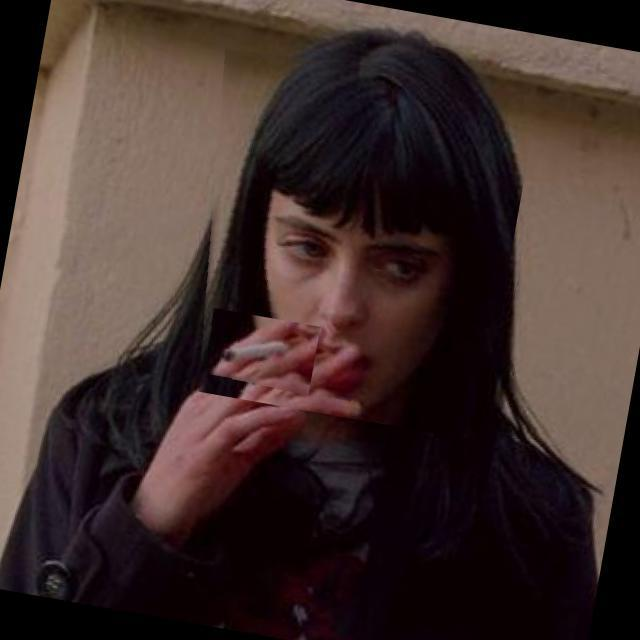cigarette: (202, 308, 321, 396)
